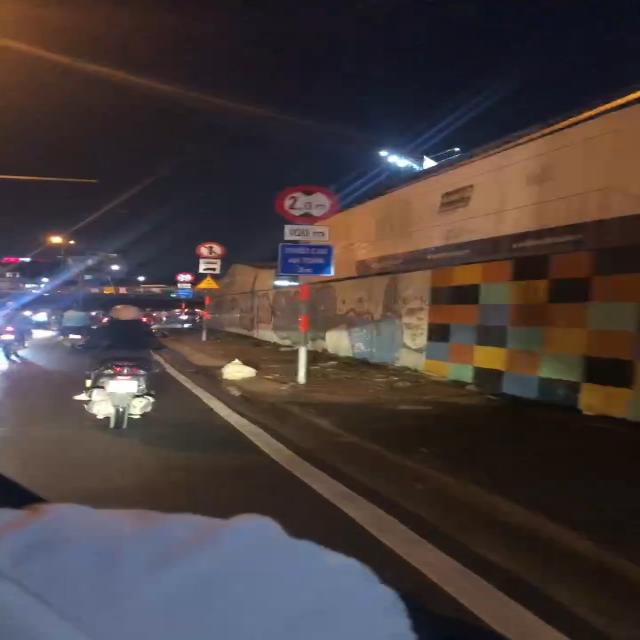Bien bao cam di thang: (192, 241, 226, 258)
Bien bao han che chieu cao: (270, 182, 344, 223)
